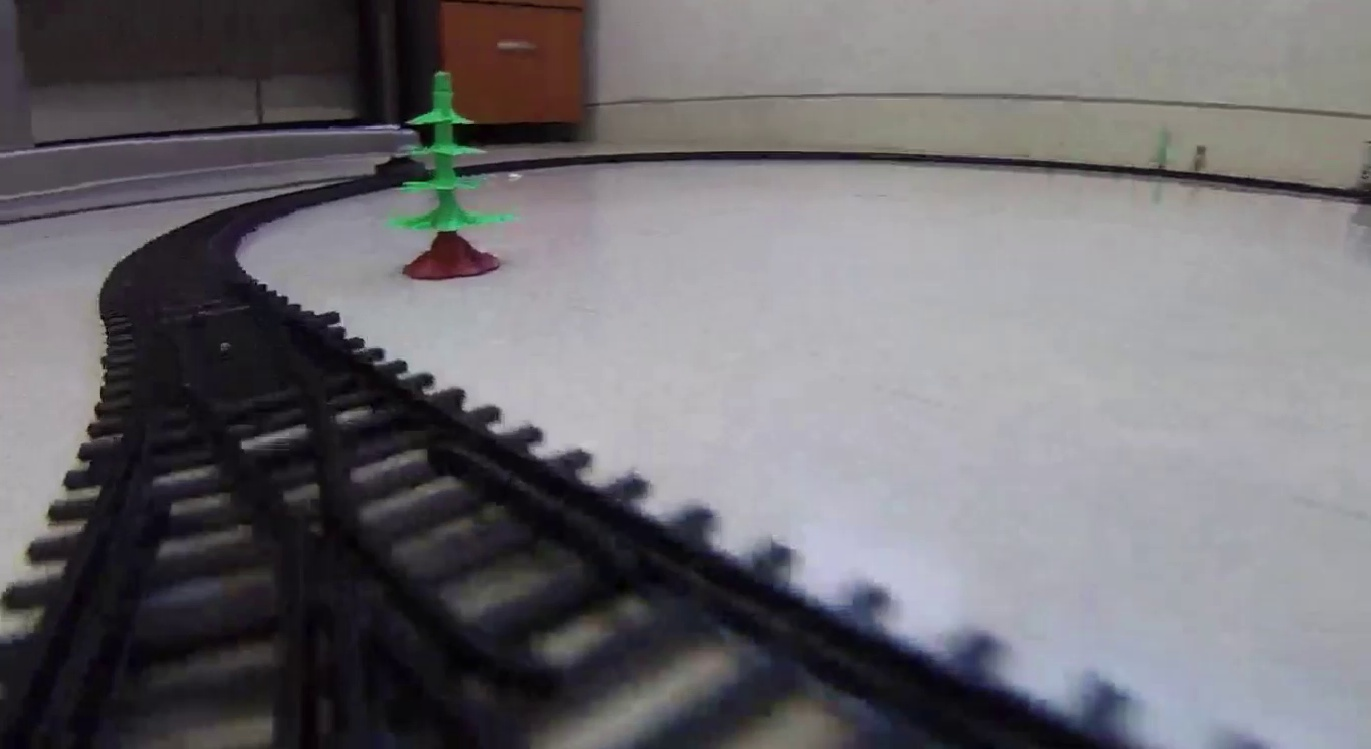tree: (385, 71, 507, 279)
